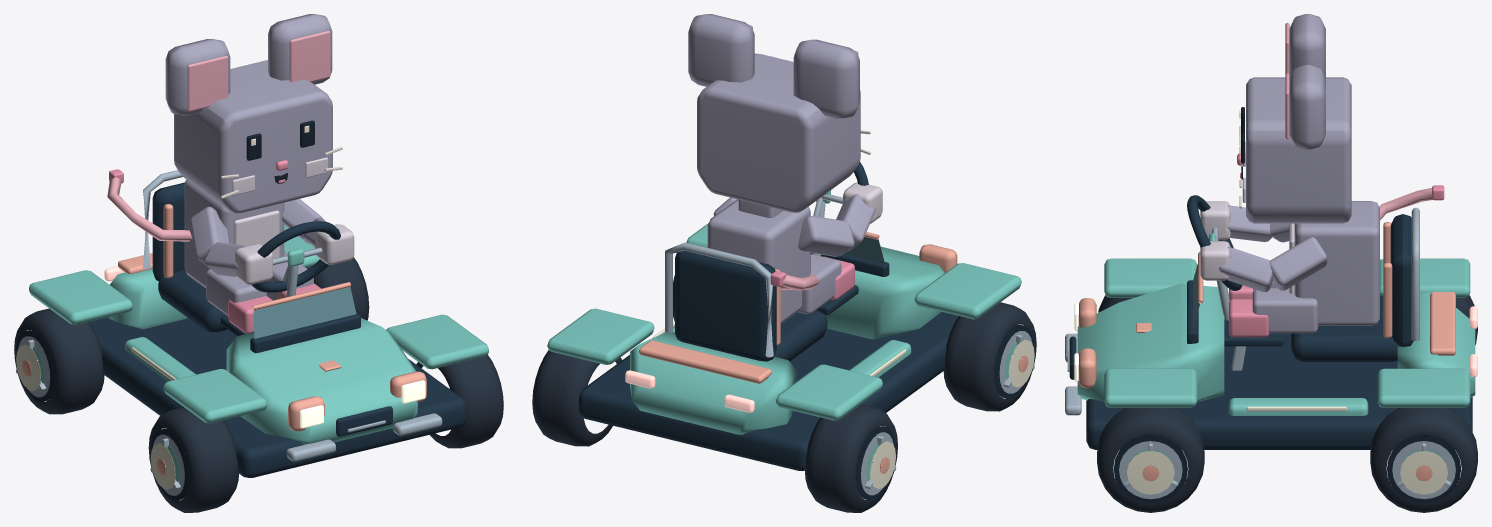
The model's file is kart_tikus.glb.
The picture shows the model from 3 angles, left to right: view 1: azimuth 30°, elevation 25°; view 2: azimuth 150°, elevation 25°; view 3: azimuth 270°, elevation 25°; orthographic projection. The views are drawn at different scales.
Visible parts, largest first — view 1: chassis, driver_pose, wheel_rl_spin, wheel_fl_spin, ear_l, wheel_fr_spin, ear_r, steering, wheel_rr_spin, tail, eyes; view 2: chassis, driver_pose, wheel_rl_spin, wheel_fl_spin, wheel_rr_spin, ear_l, ear_r, tail; view 3: chassis, driver_pose, wheel_fr_spin, wheel_rr_spin, ear_r, ear_l, steering, tail.
Part boxes in pixels (box(x1,y1,x2,y2)): chassis: box(29, 170, 488, 477); driver_pose: box(174, 60, 354, 333); wheel_rl_spin: box(14, 308, 104, 414); wheel_fl_spin: box(148, 407, 238, 512); ear_l: box(165, 39, 230, 115); wheel_fr_spin: box(416, 355, 503, 448); ear_r: box(268, 14, 332, 84); steering: box(251, 221, 340, 292); wheel_rr_spin: box(307, 257, 369, 320); tail: box(107, 169, 192, 241); eyes: box(246, 120, 314, 160); chassis: box(547, 200, 1021, 470); driver_pose: box(697, 53, 882, 323); wheel_rl_spin: box(804, 404, 897, 512); wheel_fl_spin: box(943, 302, 1036, 411); wheel_rr_spin: box(532, 350, 621, 446); ear_l: box(793, 39, 859, 118); ear_r: box(688, 14, 754, 86); tail: box(770, 271, 820, 290); chassis: box(1065, 207, 1477, 449); driver_pose: box(1200, 77, 1379, 337); wheel_fr_spin: box(1097, 408, 1204, 512); wheel_rr_spin: box(1370, 408, 1477, 512); ear_r: box(1285, 64, 1325, 149); ear_l: box(1285, 14, 1325, 78); steering: box(1187, 195, 1242, 290); tail: box(1379, 185, 1444, 219).
Size of what is drawn, in the model's own units: 1.48 by 1.65 by 1.57.
